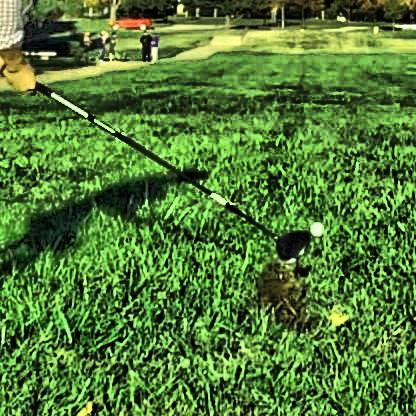golfball: (306, 217, 321, 232)
